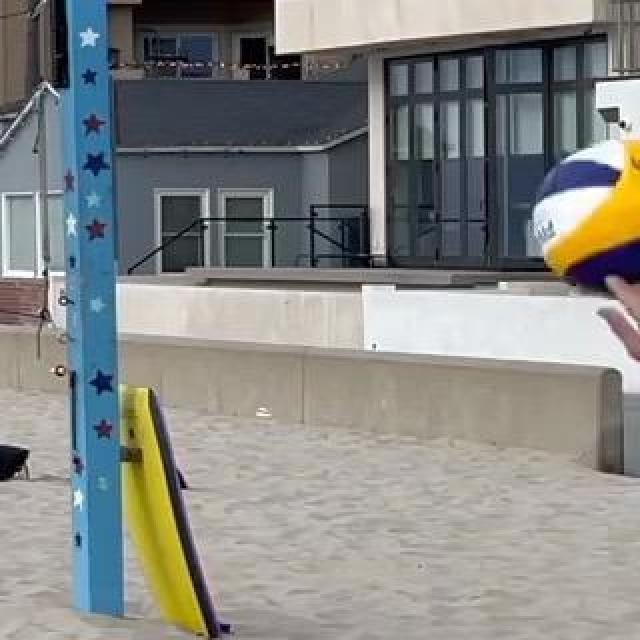volleyball: (532, 136, 640, 302)
